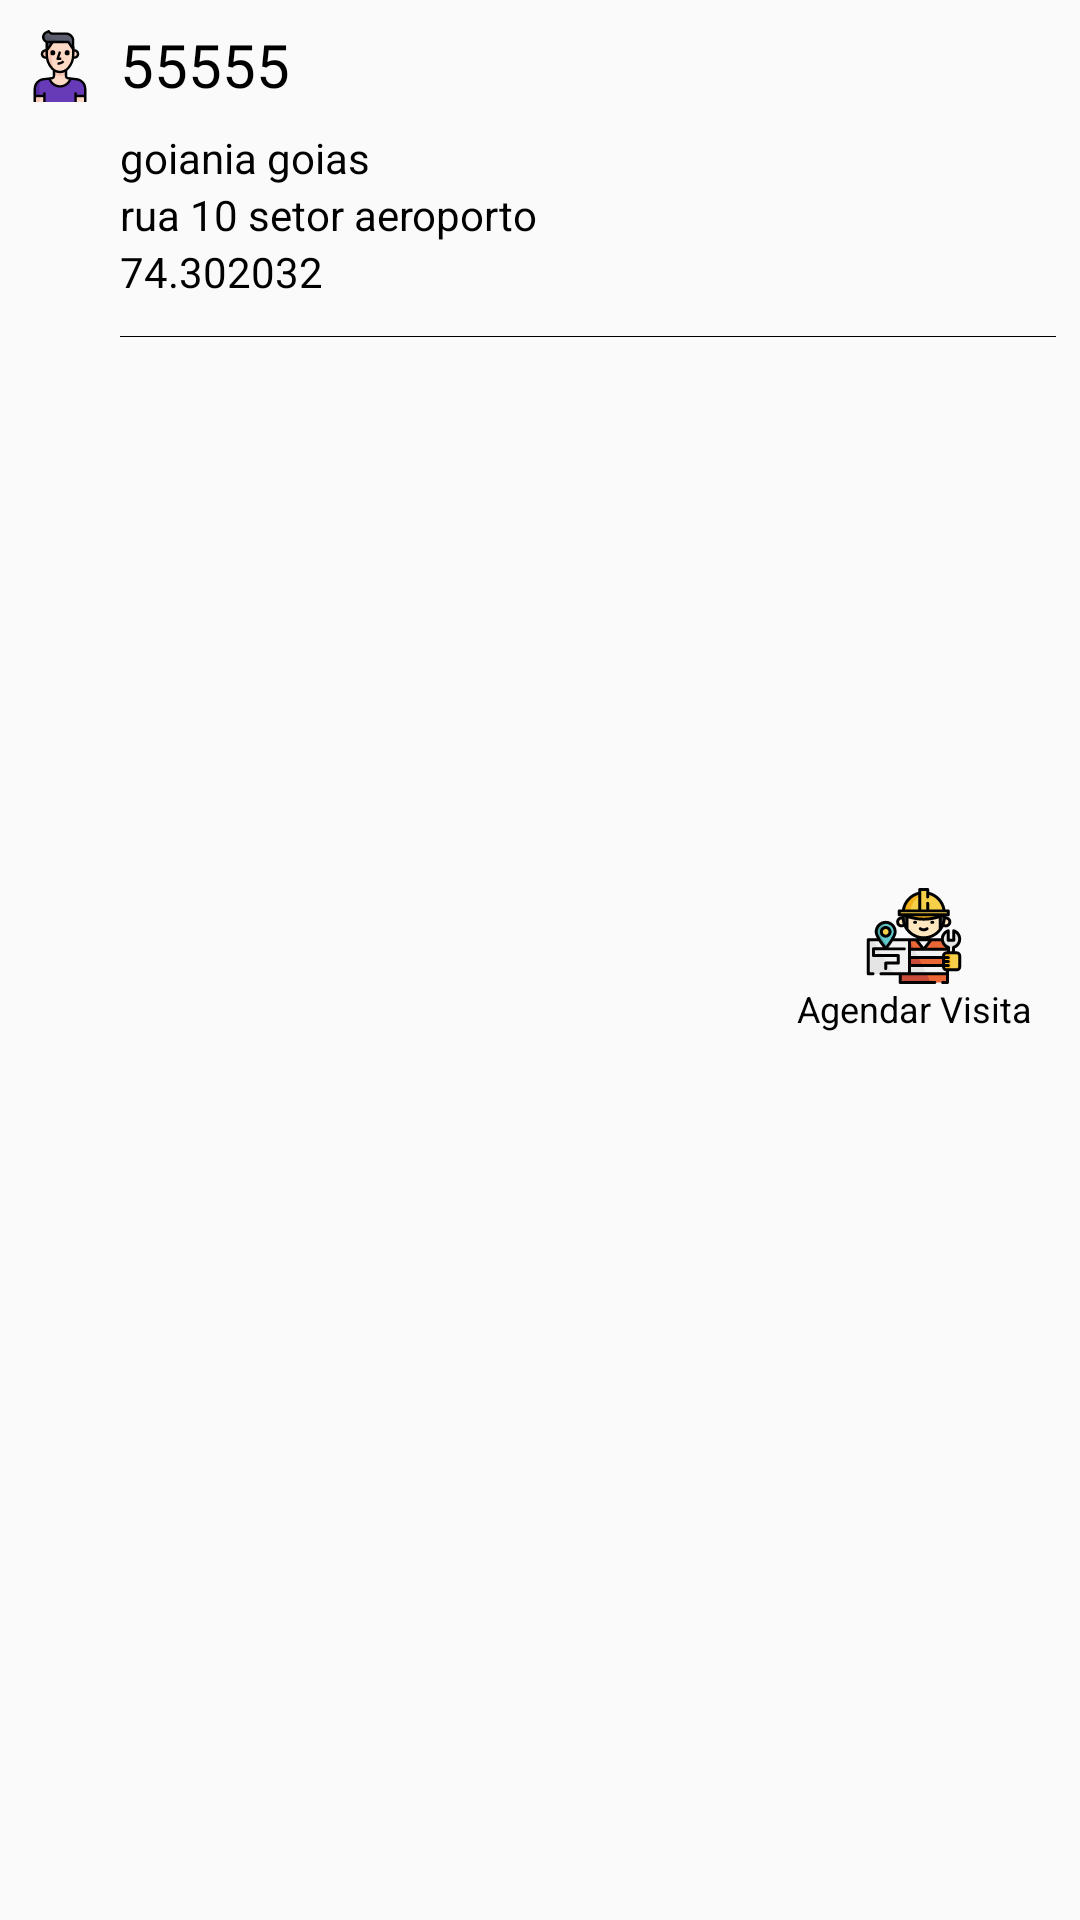

Screen size 1080x1920. Icon name, then its box in pixels as bbox=[x1, y1, x2, y2]:
man: bbox=[33, 30, 87, 102]
